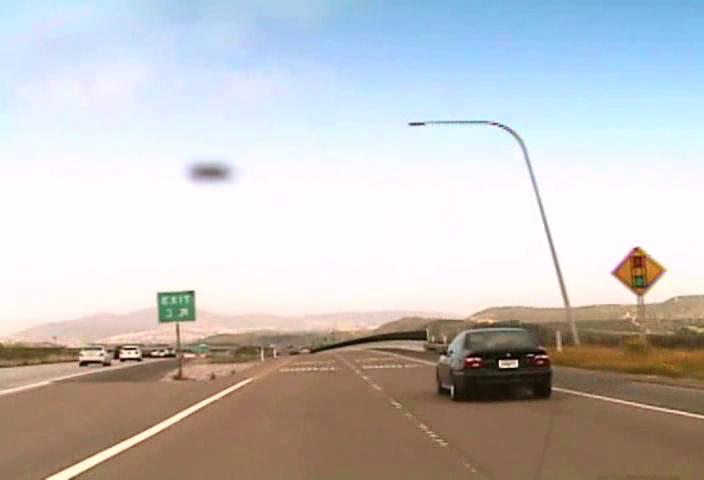signalAhead: (610, 245, 667, 296)
